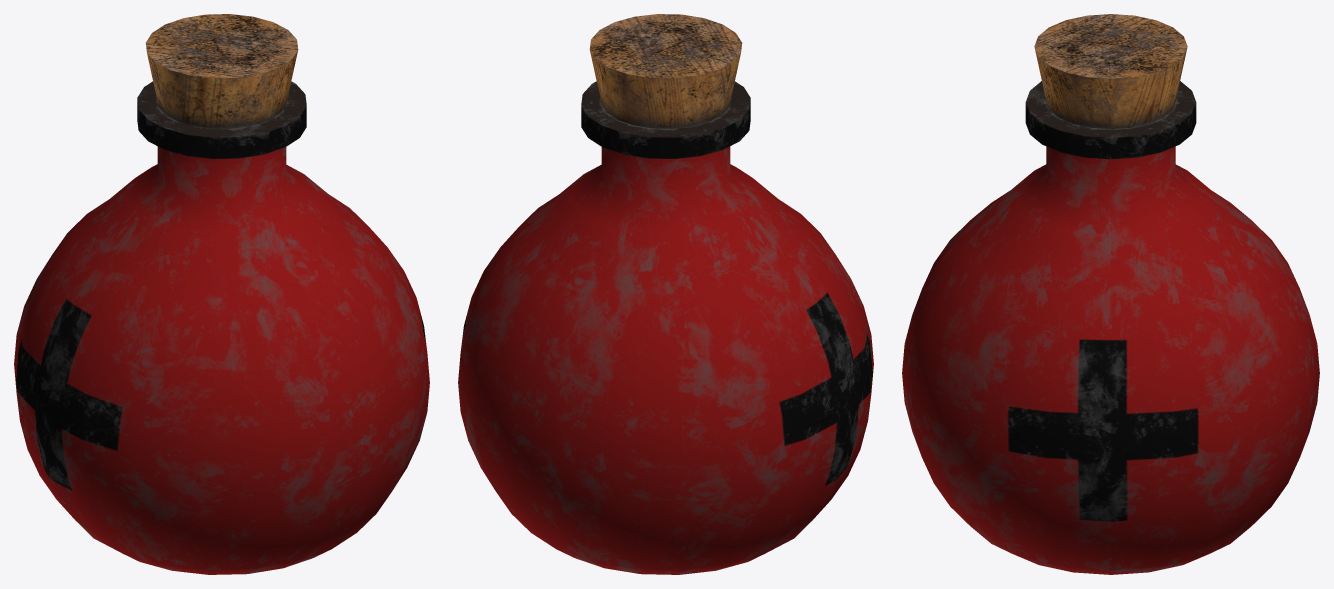
File: heal-effect.glb
The picture shows the model from 3 angles, left to right: view 1: azimuth 30°, elevation 25°; view 2: azimuth 150°, elevation 25°; view 3: azimuth 270°, elevation 25°; orthographic projection.
Visible parts, largest first — view 1: pSphere1; view 2: pSphere1; view 3: pSphere1.
Part boxes in pixels (x1,y1,x2,y2): pSphere1: [14, 14, 429, 574]; pSphere1: [458, 14, 873, 574]; pSphere1: [902, 14, 1319, 574].
Bounding box in the file's own units: 0.8364 × 1.05 × 0.8364.
1 material, 1 textured.
